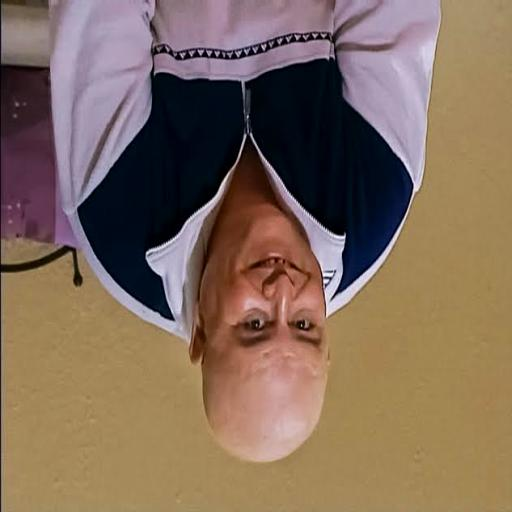sboui: (189, 202, 329, 462)
